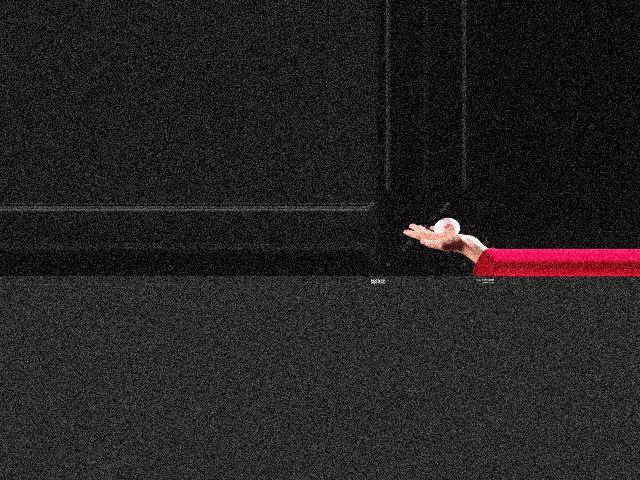egg: (434, 218, 460, 235)
